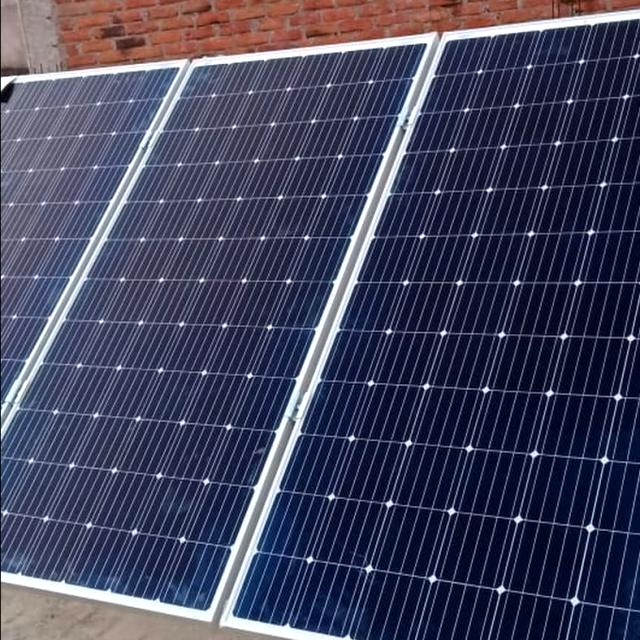crack: (200, 14, 640, 640), (14, 45, 412, 640)
